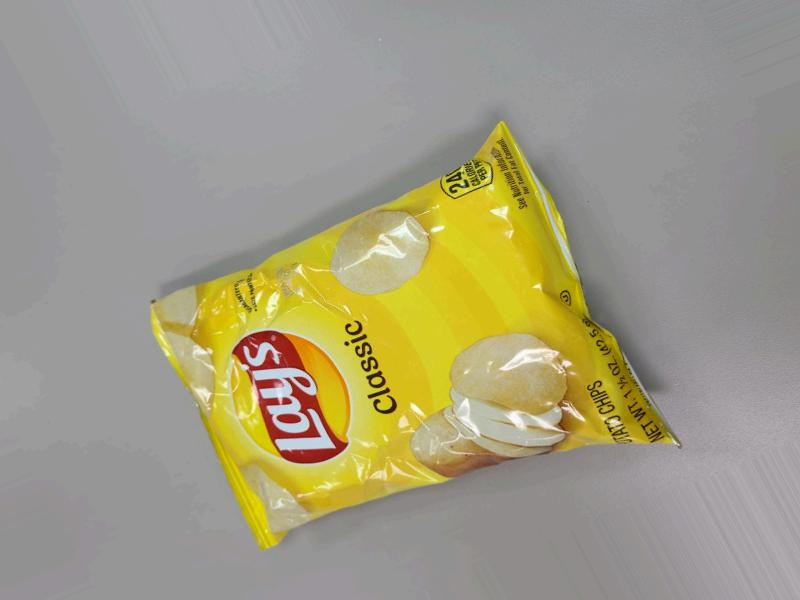lays: (162, 184, 691, 576)
